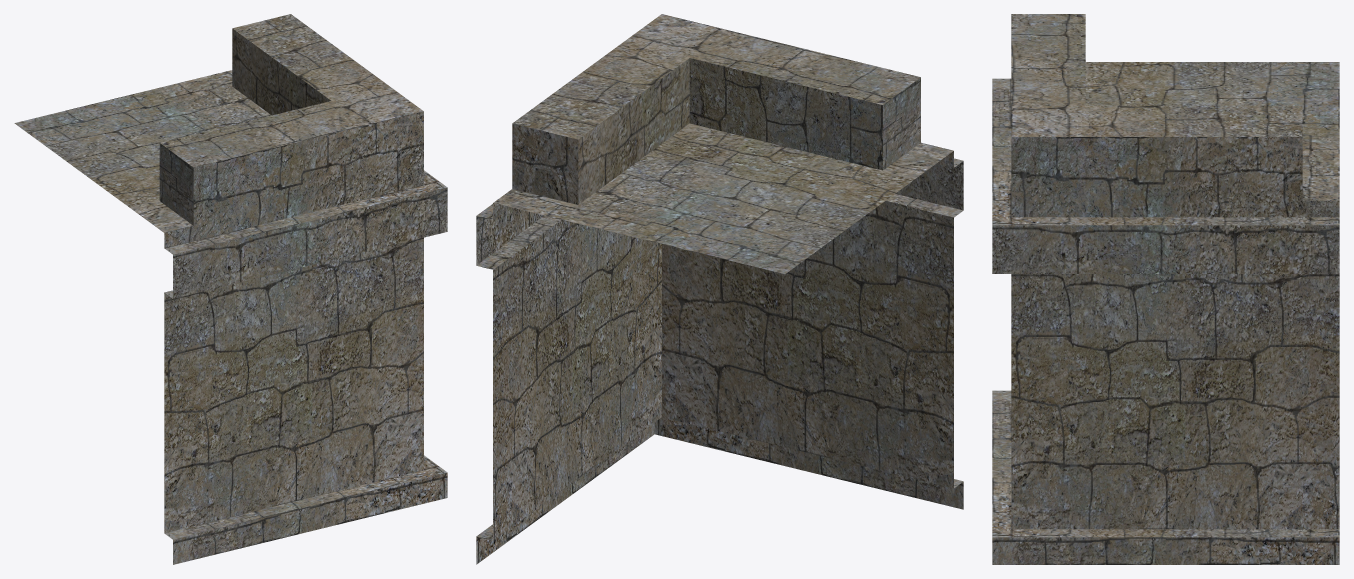
File: B_L_Corner.FBX
The picture shows the model from 3 angles, left to right: view 1: azimuth 30°, elevation 25°; view 2: azimuth 150°, elevation 25°; view 3: azimuth 270°, elevation 25°; orthographic projection. The views are drawn at different scales.
Parts seen in each view (by area): view 1: Claimed102SE001; view 2: Claimed102SE001; view 3: Claimed102SE001.
Boxes of the visible parts, x1,y1,x2,y2 form: Claimed102SE001: (14, 14, 447, 564); Claimed102SE001: (476, 14, 963, 564); Claimed102SE001: (992, 14, 1339, 564).
Size of the model in its own units: 100 by 133 by 100.
